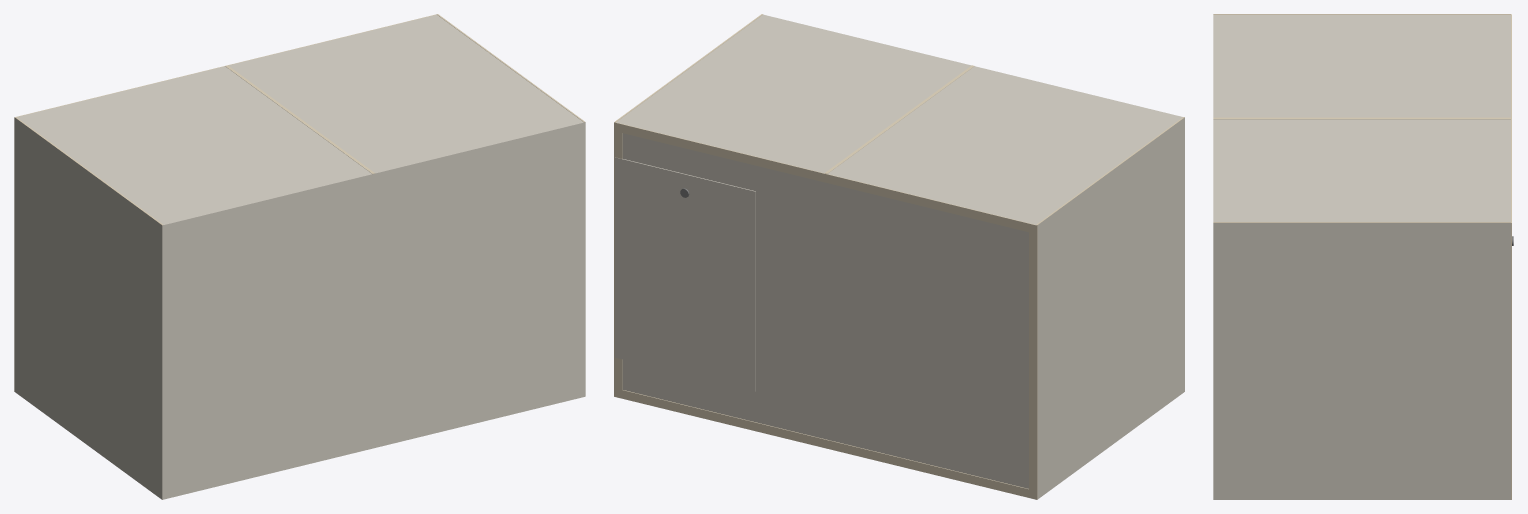
File: v2-real-bench-0.glb
3 views of the same model, side by side, from view 1: azimuth 30°, elevation 25°; view 2: azimuth 150°, elevation 25°; view 3: azimuth 270°, elevation 25° (orthographic).
Bounding box in the file's own units: 920 × 570 × 560.
